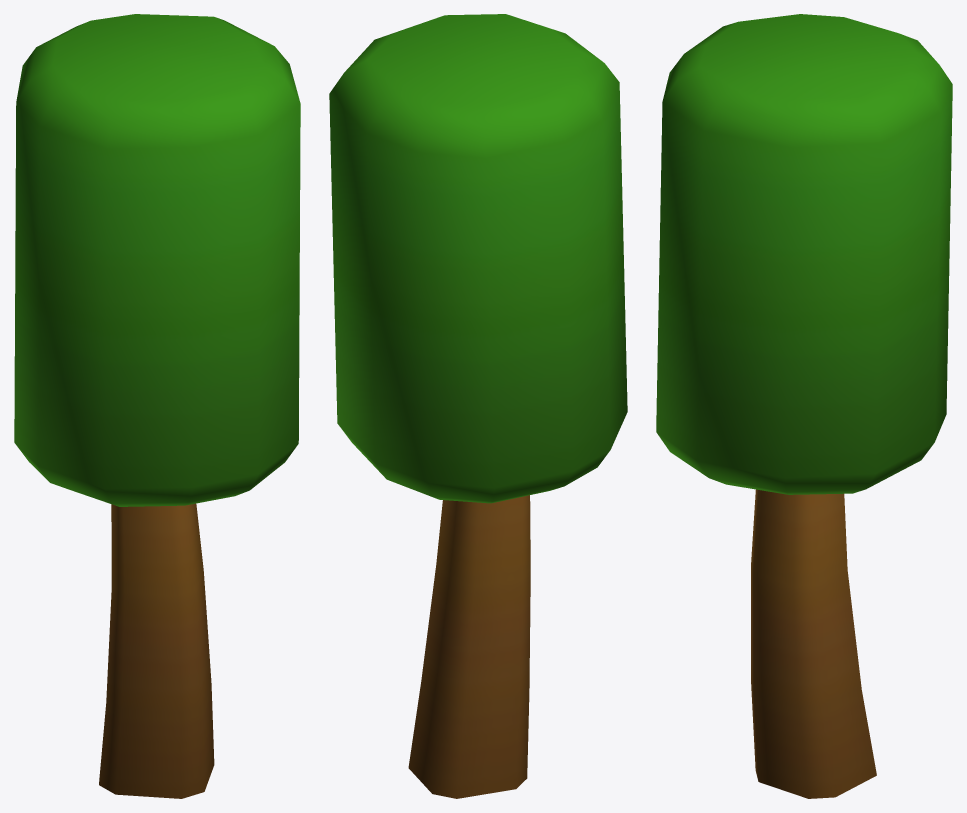
Rendered from Tree_C_1_.fbx.
3 views of the same model, side by side, from view 1: azimuth 30°, elevation 25°; view 2: azimuth 150°, elevation 25°; view 3: azimuth 270°, elevation 25° (orthographic).
Parts seen in each view (by area): view 1: Tree_C_1; view 2: Tree_C_1; view 3: Tree_C_1.
Part boxes in pixels (x1,y1,x2,y2): Tree_C_1: [14, 14, 300, 798]; Tree_C_1: [329, 14, 627, 798]; Tree_C_1: [656, 14, 952, 798].
Bounding box in the file's own units: 127 × 348 × 130.
